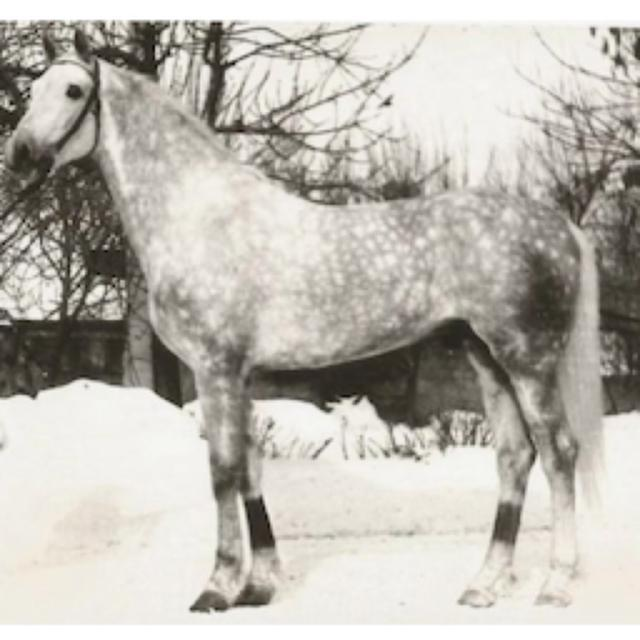Horse: (0, 25, 622, 612)
